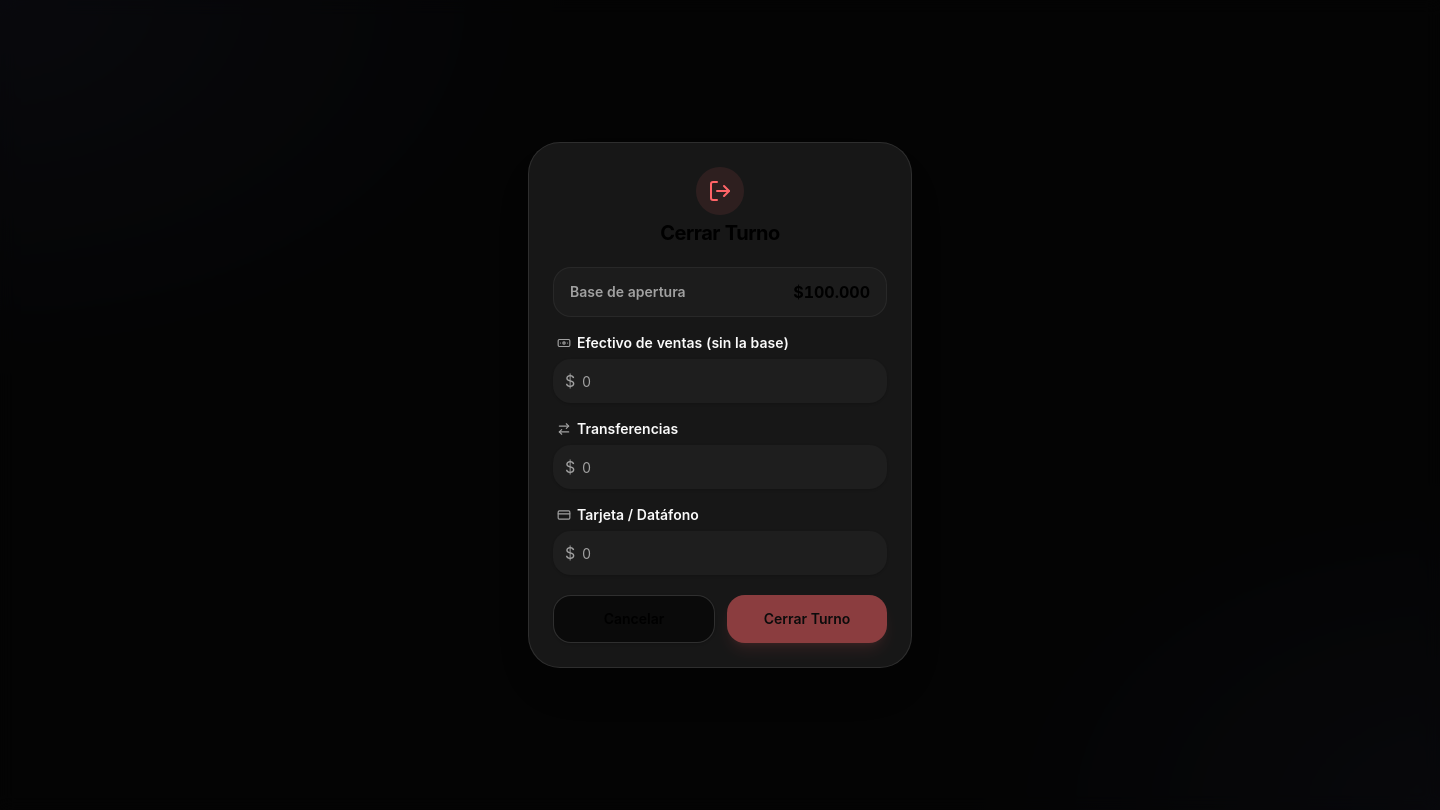
Scenario: ShiftClosingModal — cuadre review › shows expected vs typed per method
This screenshot has width=1440, height=810.
Type "220000" into the field labelled "Efectivo de ventas (sin la base)" at (720, 381), box [553,359,887,403]
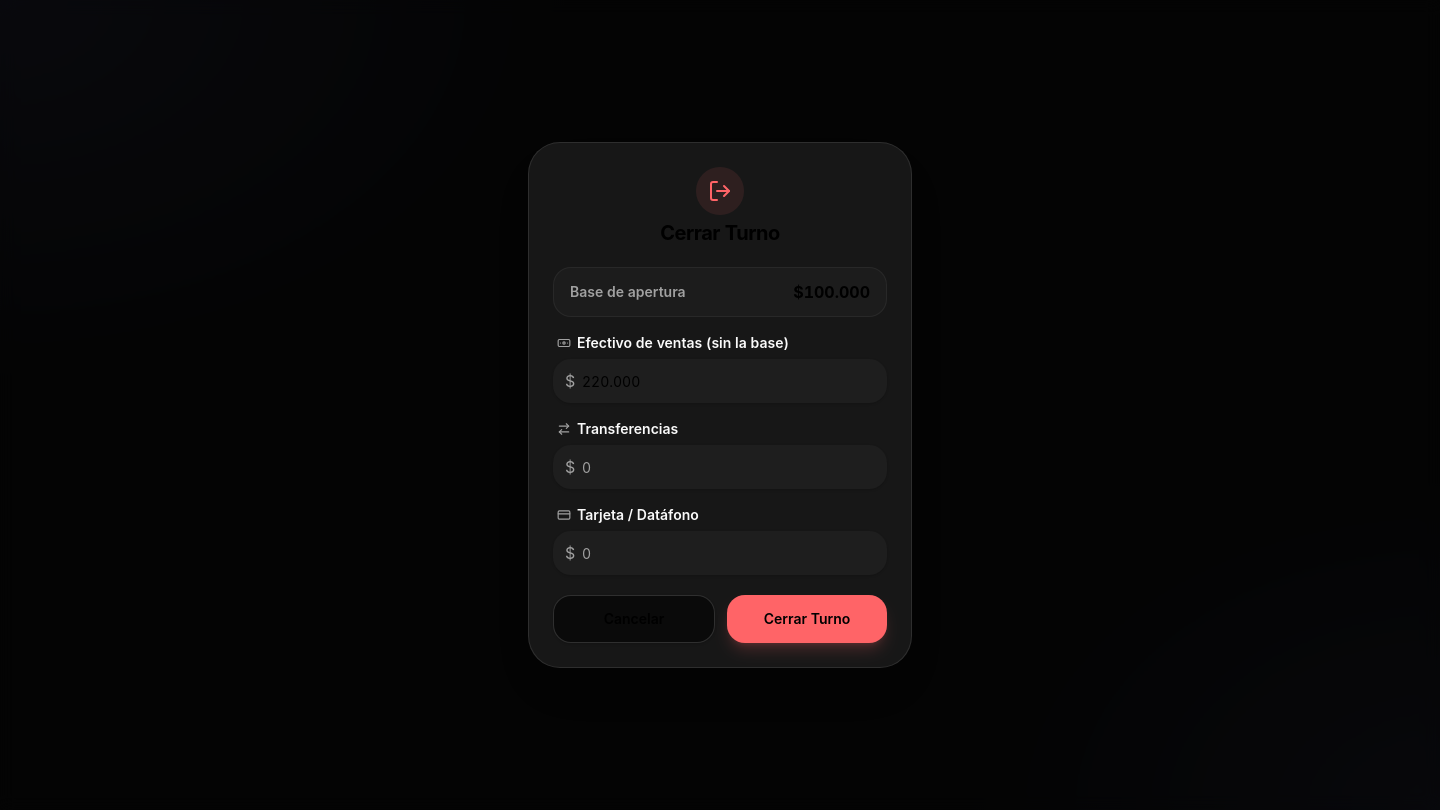
Type "20000" into the field labelled "Transferencias" at (720, 467), box [553,445,887,489]
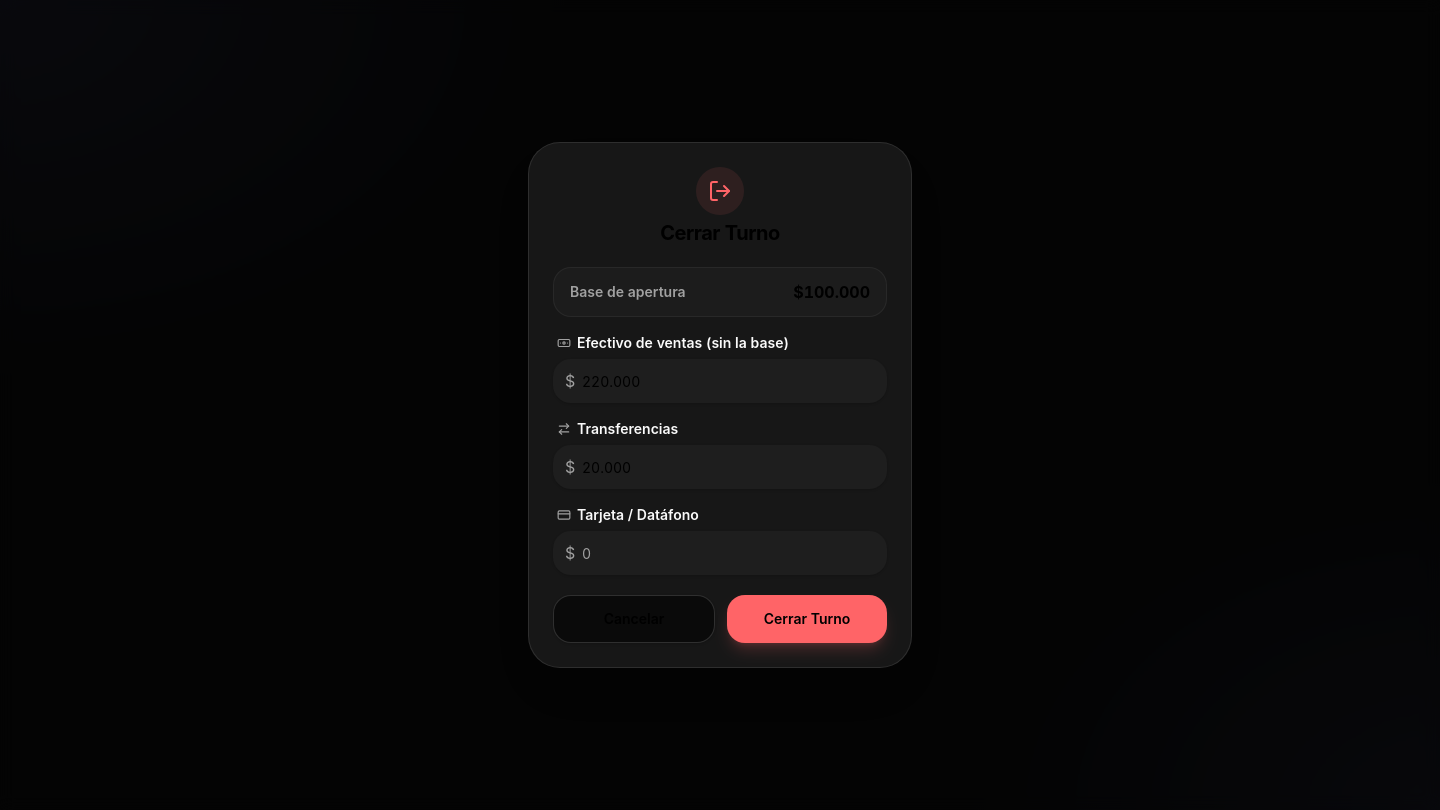
Type "30000" into the field labelled "Tarjeta / Datáfono" at (720, 553), box [553,531,887,575]
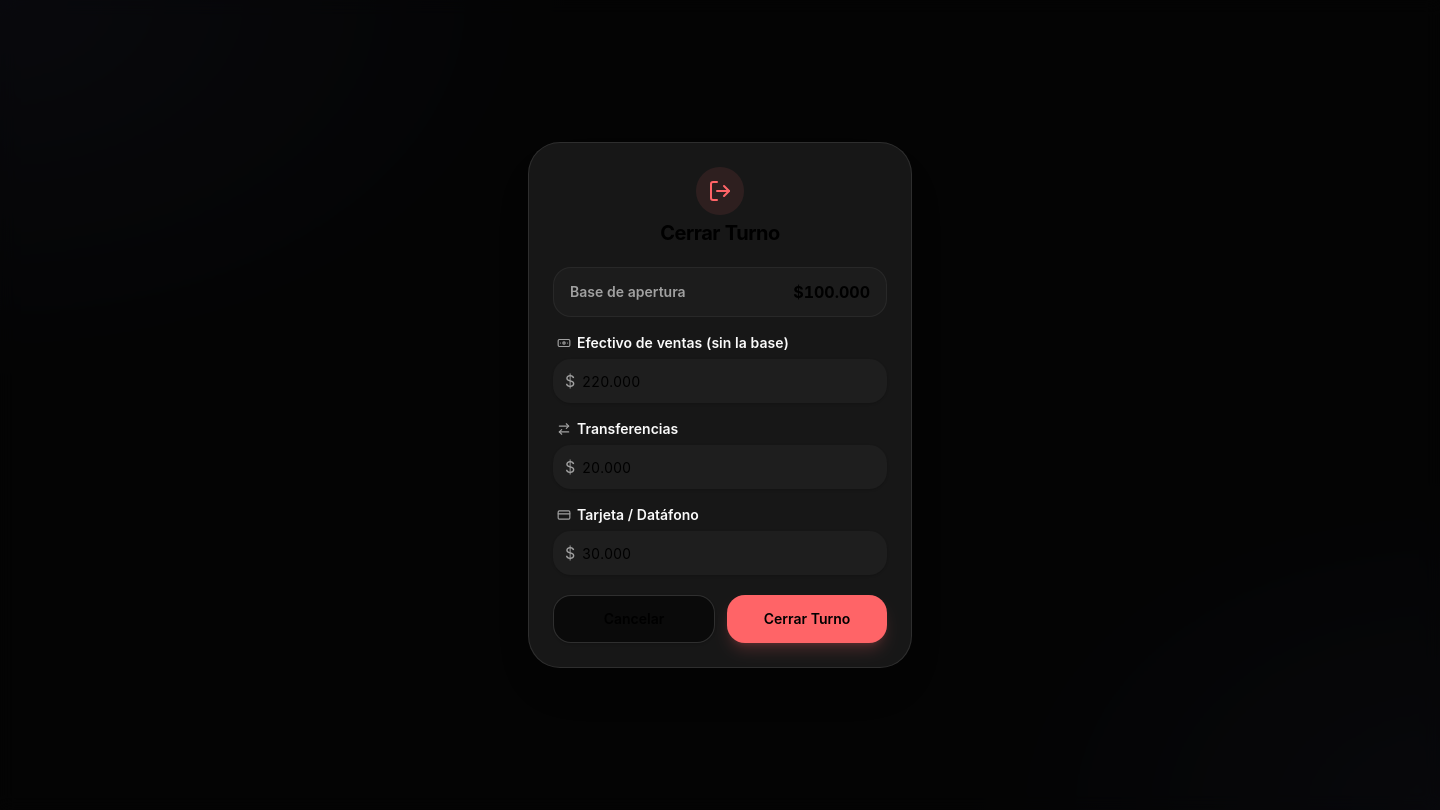
Click the button "Cerrar Turno" at (807, 619), box [727,595,887,643]
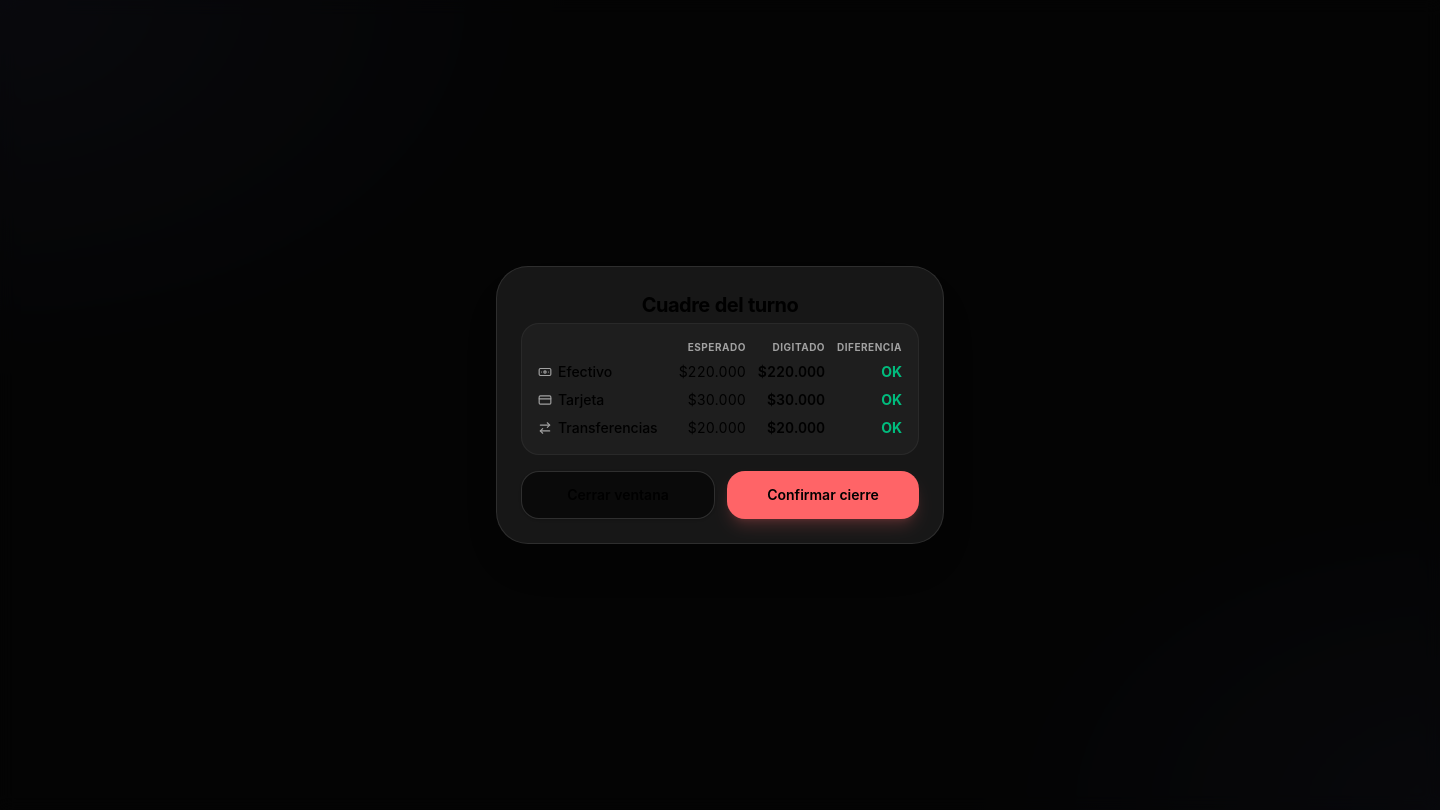
Check: the text "$220.000" is shown 2 times, box [679,362,746,382]; [758,362,825,382]
Check: the text "$30.000" is shown 2 times, box [679,390,746,410]; [758,390,825,410]
Check: the text "$20.000" is shown 2 times, box [679,418,746,438]; [758,418,825,438]
